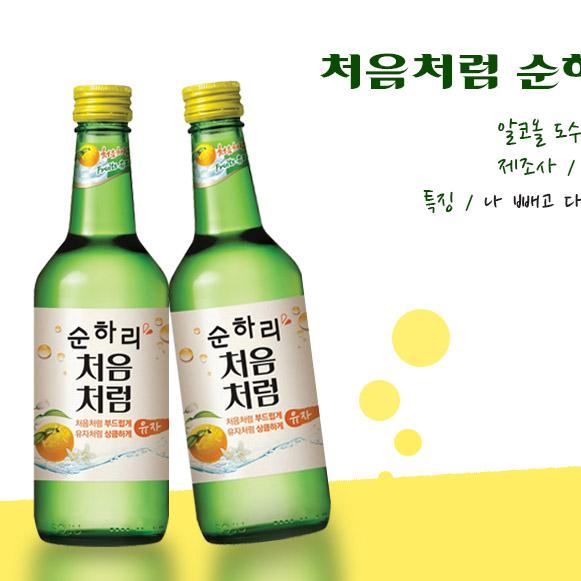soju: (29, 76, 338, 546)
